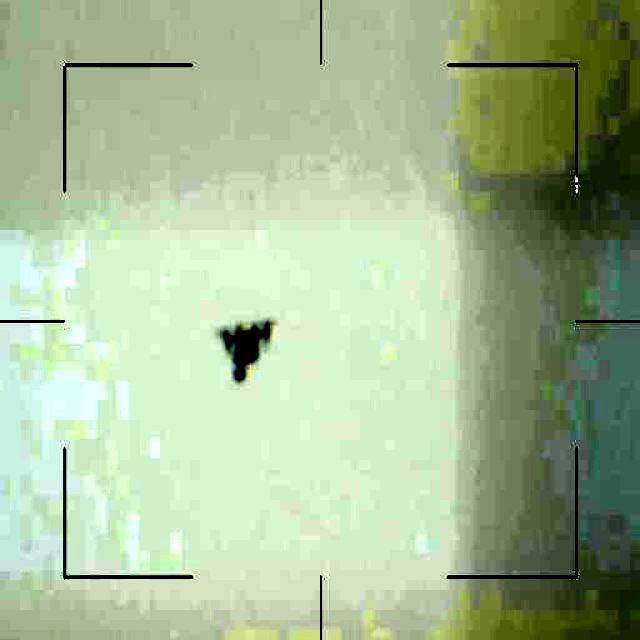bird: (210, 311, 281, 388)
